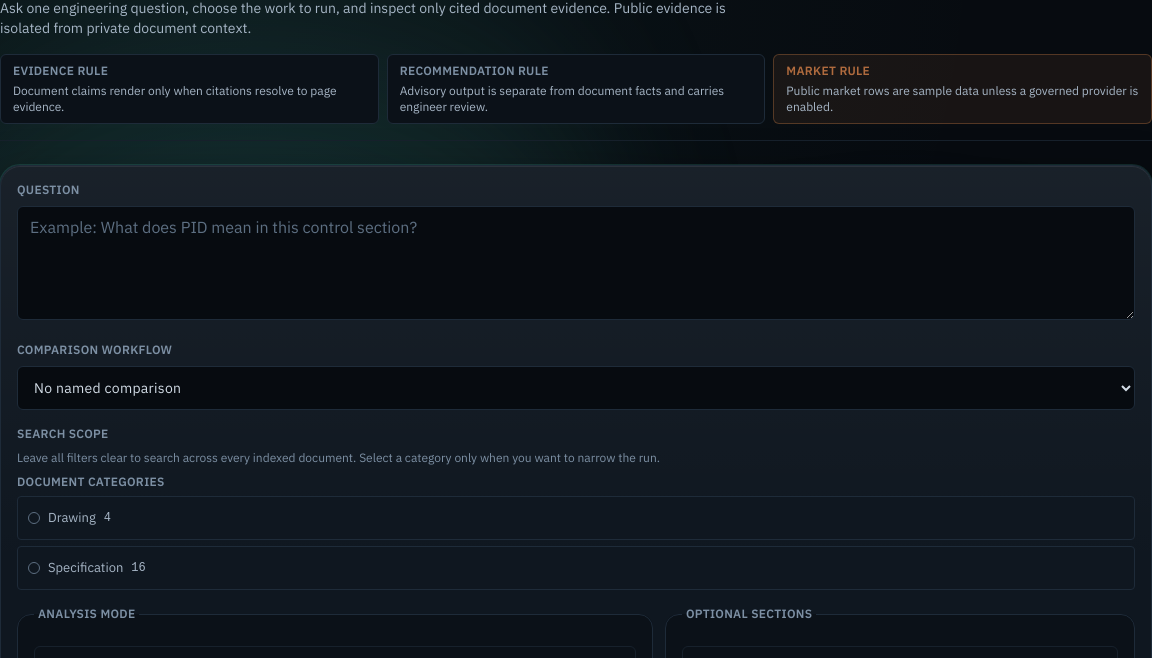
Test case: AnalysisModeScreen: the rendered scope count is the server's, never a local count › renders documents_in_scope from applied_scope even though it differs from the ledger's document count
Click the checkbox labelled "Drawing 4": (72, 518) [17,496,1135,540]
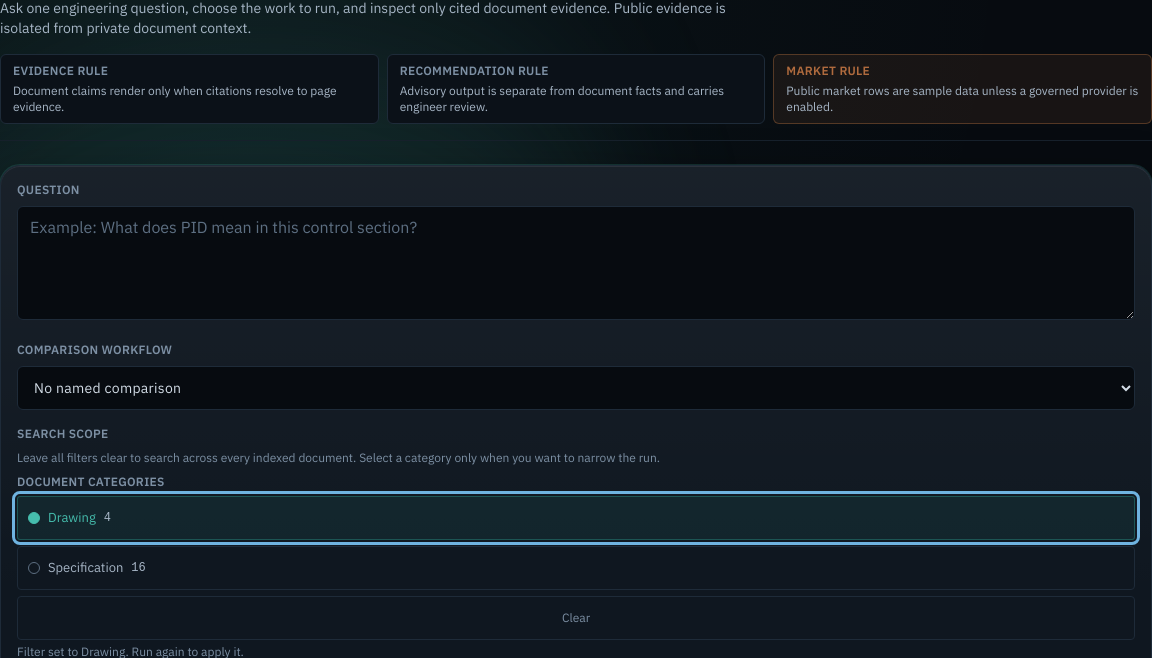
In the text box labelled "Question": (576, 263) [17,206,1135,320], type "what is the pressure floor"
(page scrolled)
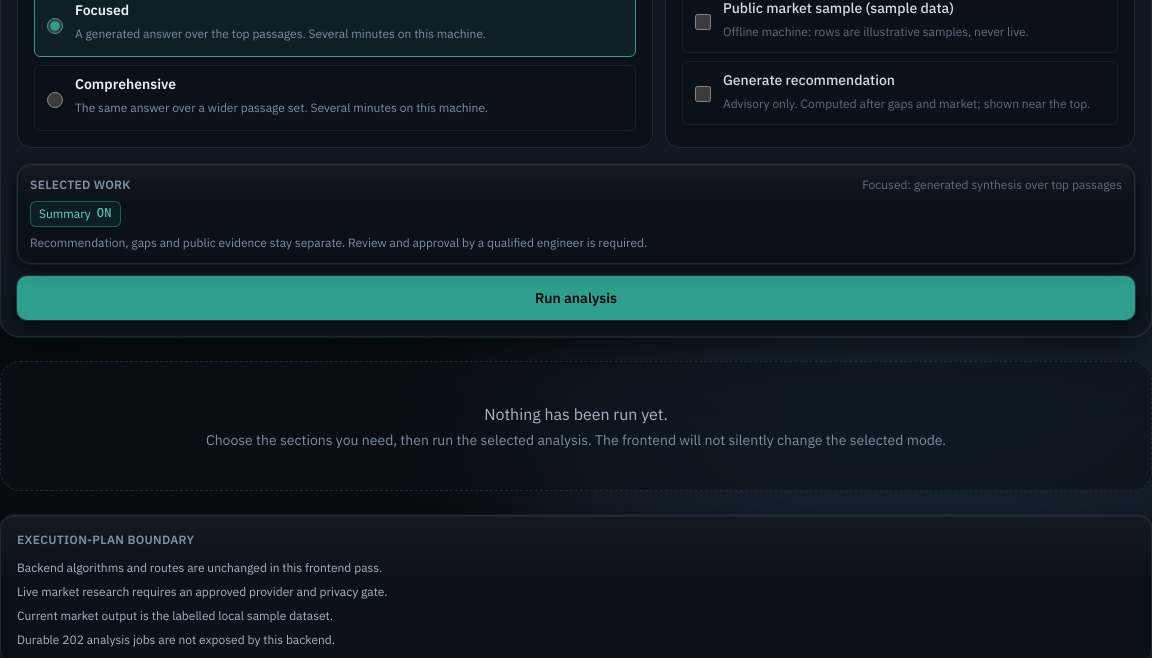
Click the button "Run analysis": (576, 298) [17,276,1135,320]
(page scrolled)
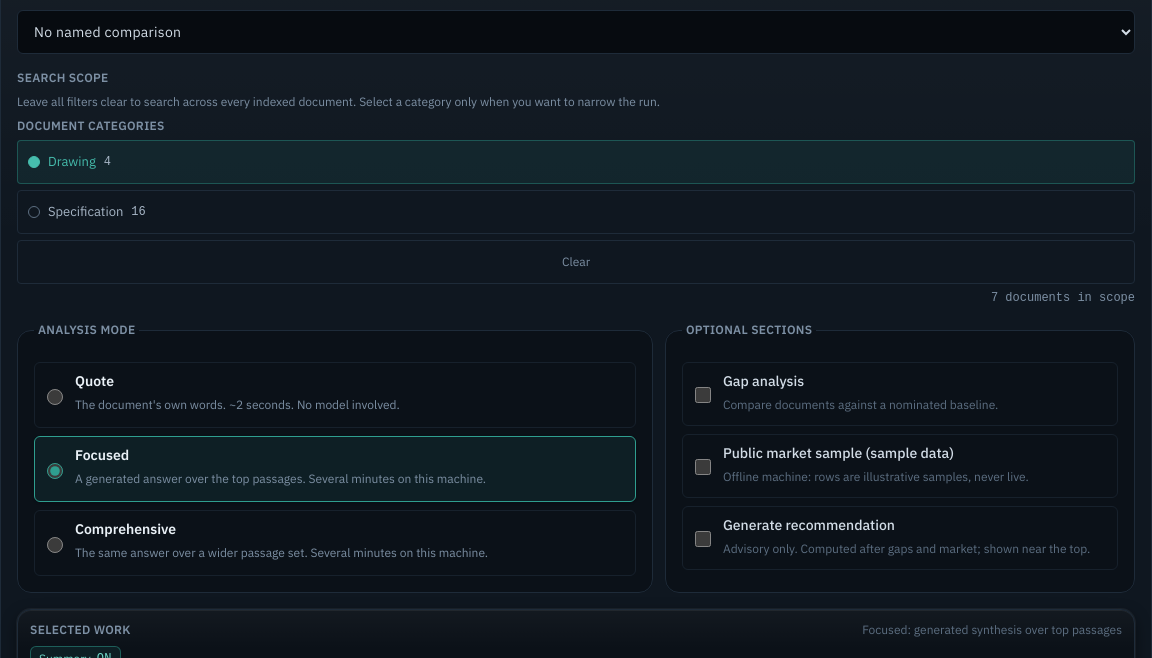
Now the text "7 documents in scope" is shown, box [991,290,1135,306]
